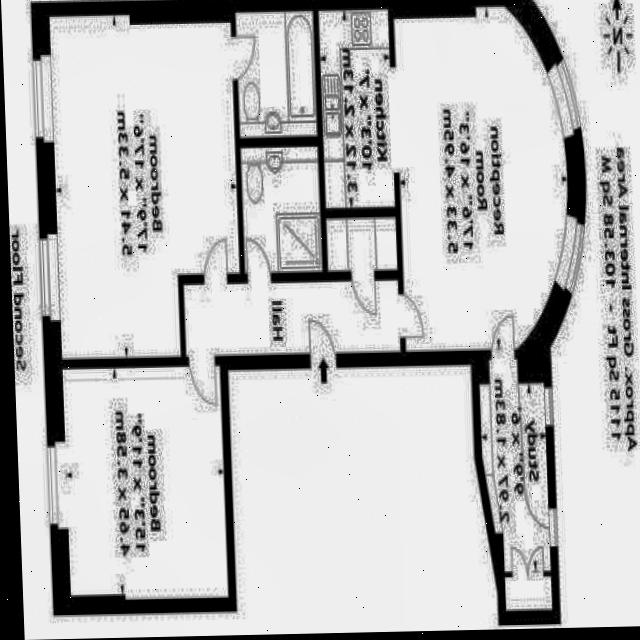room: (318, 5, 569, 354), (48, 10, 241, 362), (62, 364, 227, 603), (182, 281, 399, 357), (478, 359, 549, 573), (234, 9, 317, 140), (240, 147, 322, 273), (325, 216, 396, 272), (504, 576, 551, 611)
